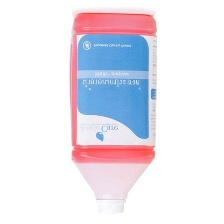cleaning_solution: (64, 10, 159, 220)
